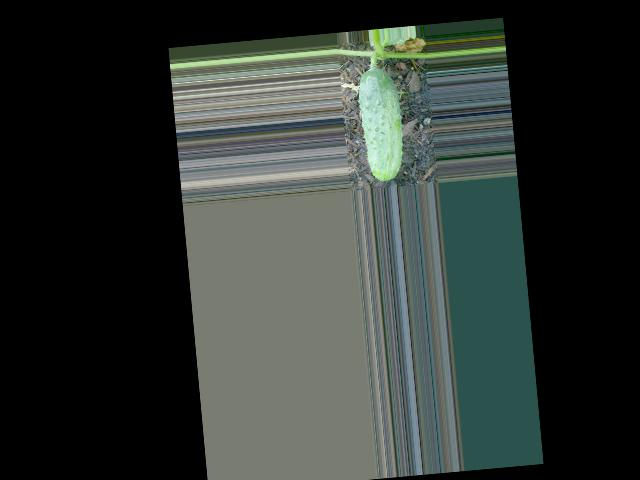cucumber: (356, 66, 407, 183)
